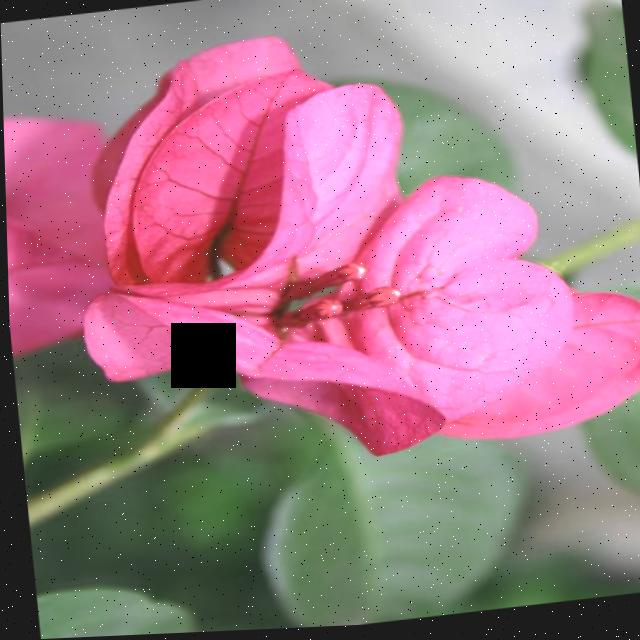bougainvillea: (26, 0, 640, 522)
